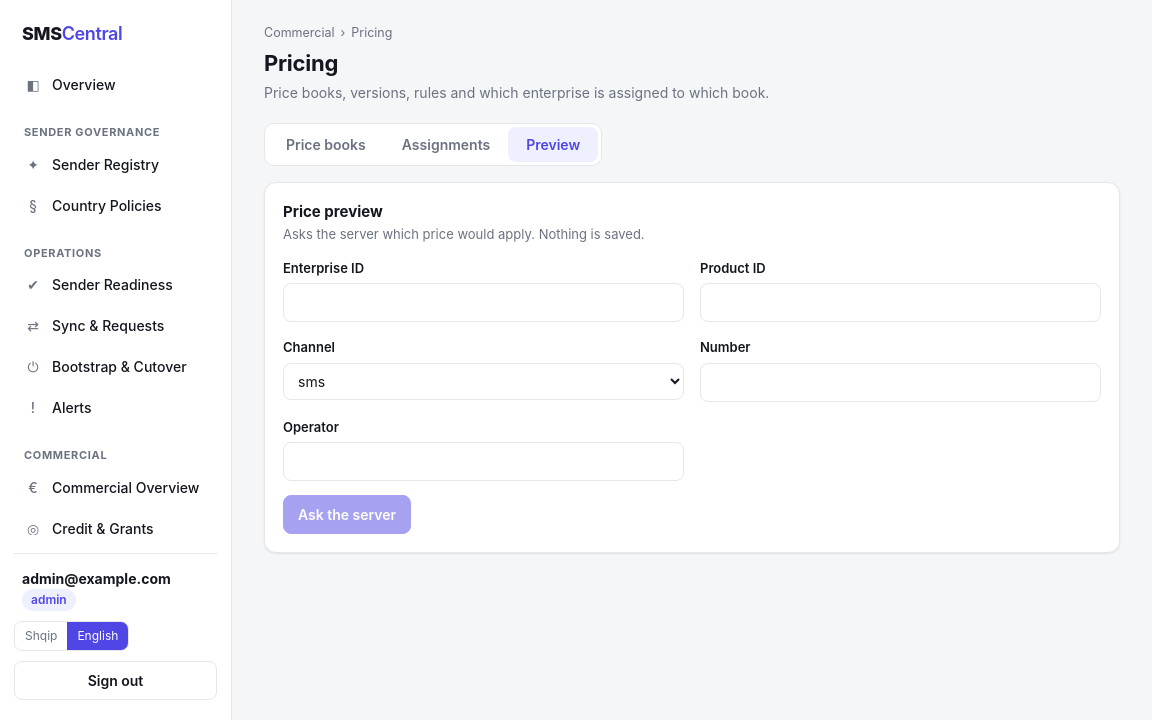
Scenario: pricing › 17 preview asks the server and shows its answer; fail-closed 409 is shown as an error
Expected: the navigation bar named "Main navigation" is shown, [14,65,217,535]
Type "11111111-1111-4111-8111-111111111111" into the field labelled "Enterprise ID" at (484, 303), box [283,283,684,322]
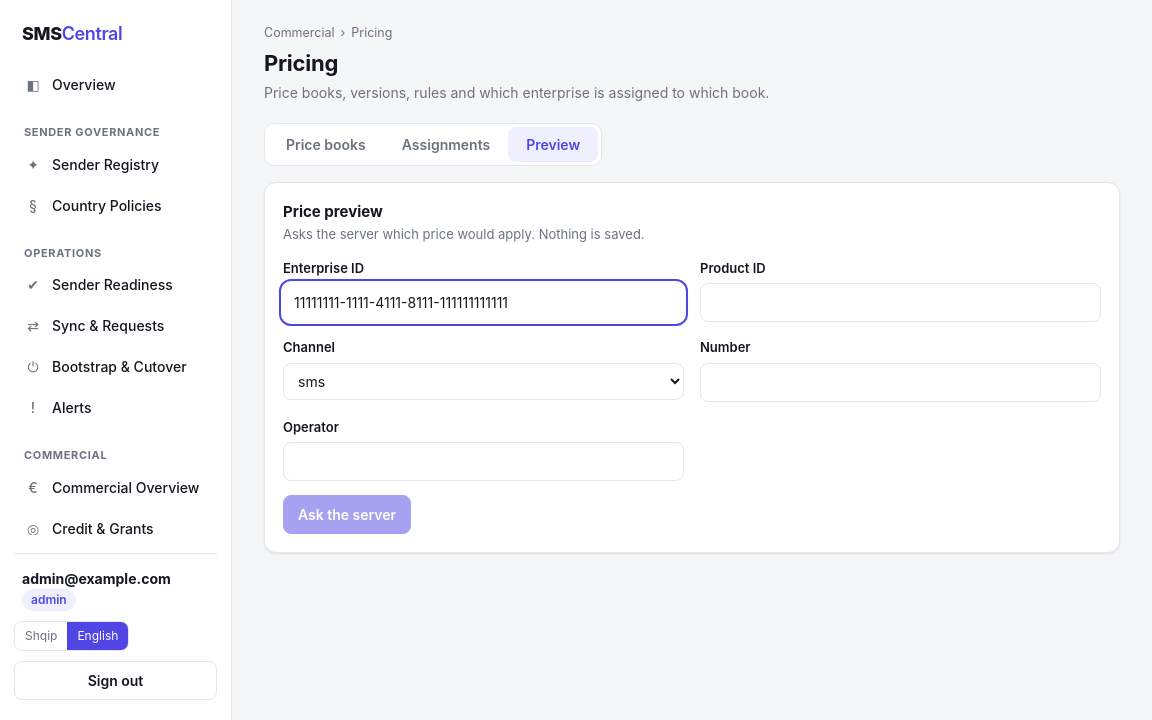
Type "cccccccc-cccc-4ccc-8ccc-cccccccccccc" into the field labelled "Product ID" at (900, 303), box [700,283,1101,322]
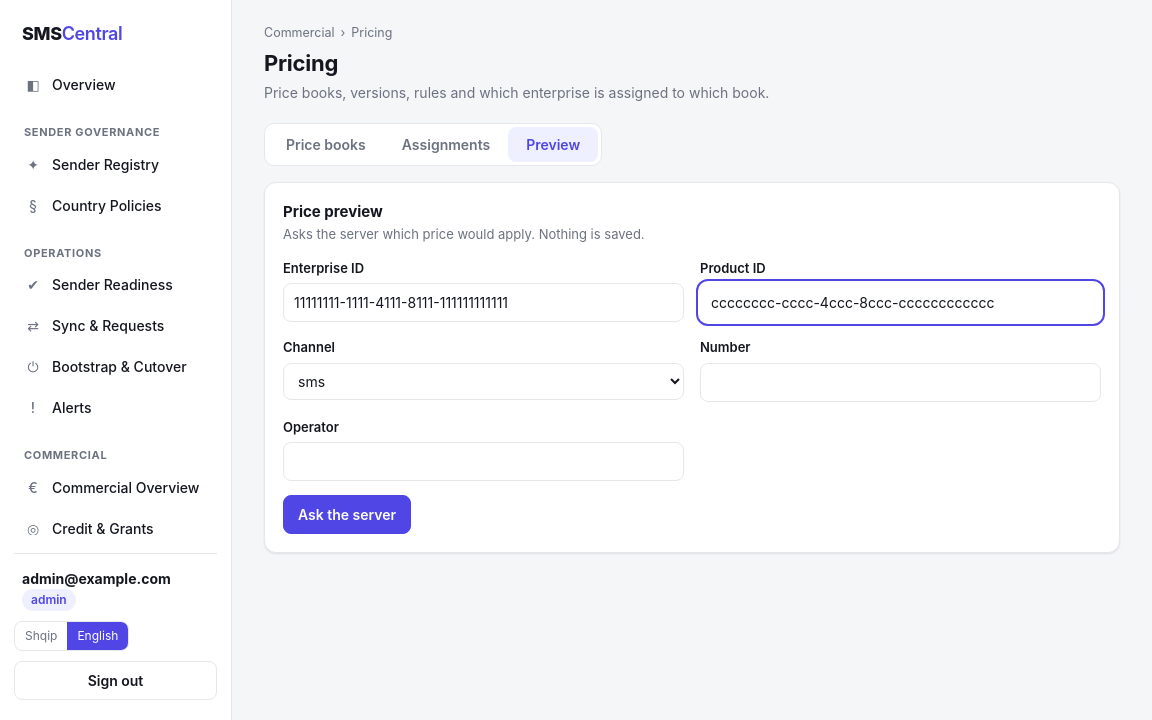
Type "35569" into the field labelled "Number" at (900, 382), box [700,363,1101,402]
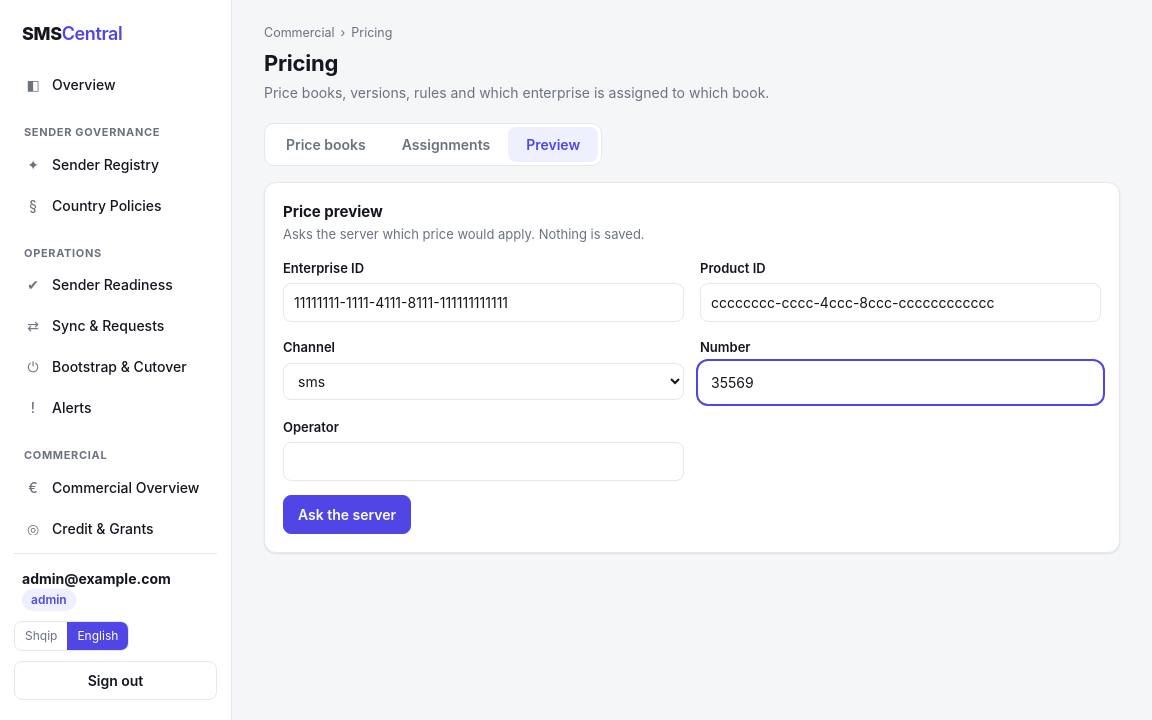
Click the button "Ask the server" at (347, 515), box [283,495,411,534]
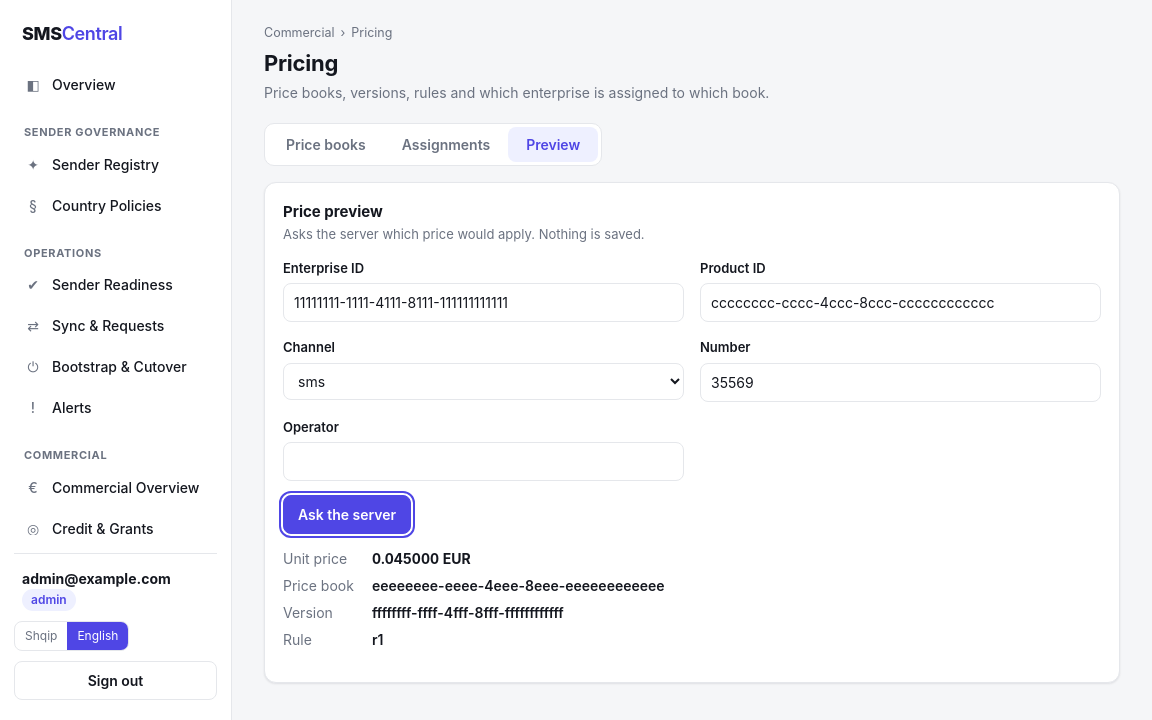
Now the text "0.045000 EUR" is shown, box [372,550,471,567]
